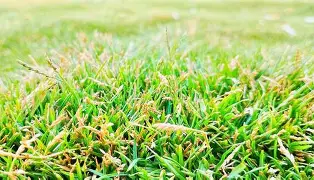weed: (0, 1, 313, 178)
